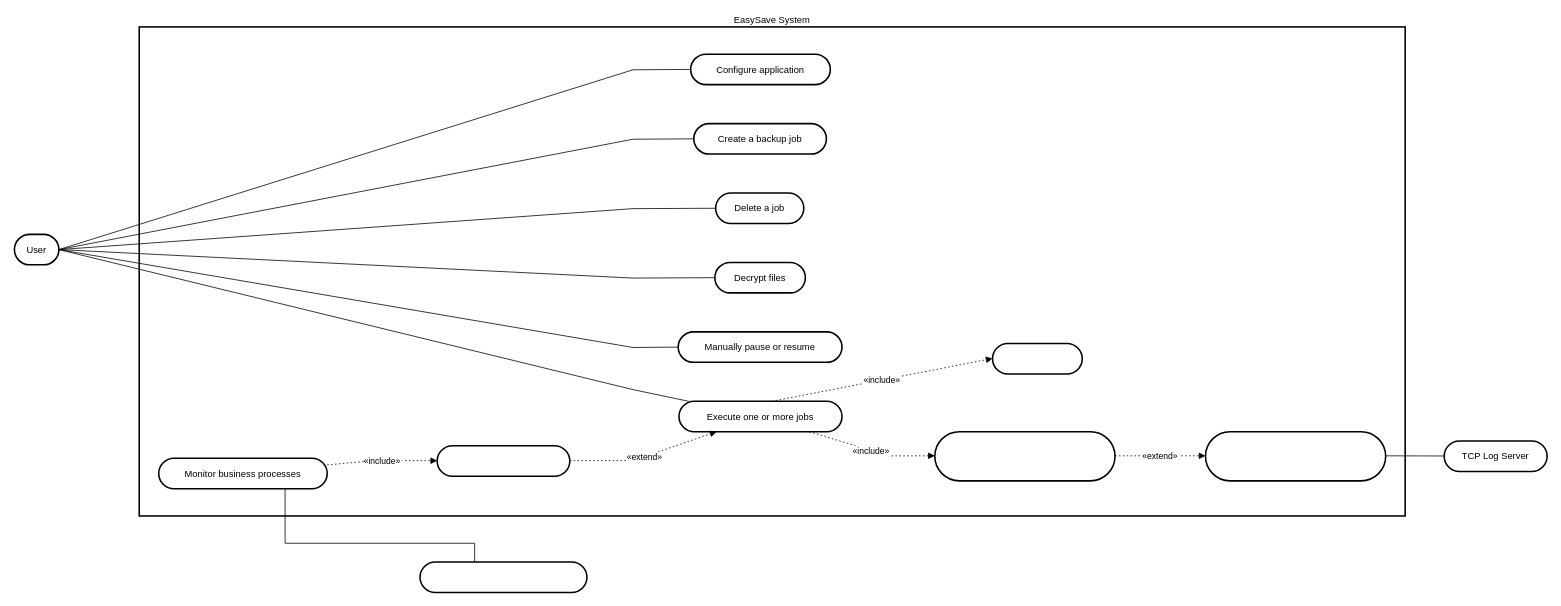
This 1561x606 diagram has some shape labels left out. Each missing label, with the centre of its shape:
"Automatically pause" goes at (x=503, y=461).
"Encrypt files" goes at (x=1037, y=358).
"Generate state and daily logs" goes at (x=1024, y=456).
"ProcessChecker Supervisor" goes at (x=503, y=577).
"Transmit JSON stream to network" goes at (x=1295, y=456).
